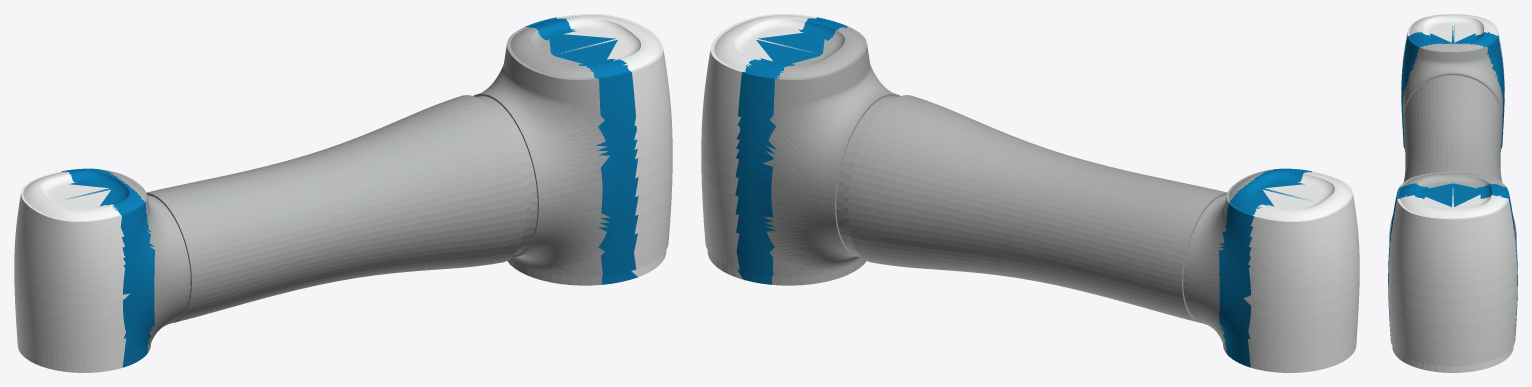
Rendered from DobotCR16Link2.dae.
3 views of the same model, side by side, from view 1: azimuth 30°, elevation 25°; view 2: azimuth 150°, elevation 25°; view 3: azimuth 270°, elevation 25° (orthographic). The views are drawn at different scales.
Parts seen in each view (by area): view 1: DobotCR16Link2; view 2: DobotCR16Link2; view 3: DobotCR16Link2.
Part boxes in pixels (left/top/right/bottom): DobotCR16Link2: left=14, top=14, right=672, bottom=372; DobotCR16Link2: left=701, top=14, right=1359, bottom=372; DobotCR16Link2: left=1388, top=14, right=1517, bottom=372.
Bounding box in the file's own units: 0.6508 × 0.1545 × 0.204.
